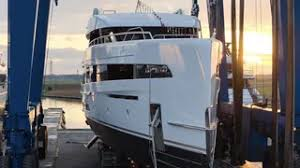boat: (81, 5, 224, 168)
